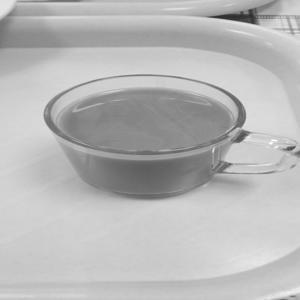coffee: (29, 61, 293, 227)
